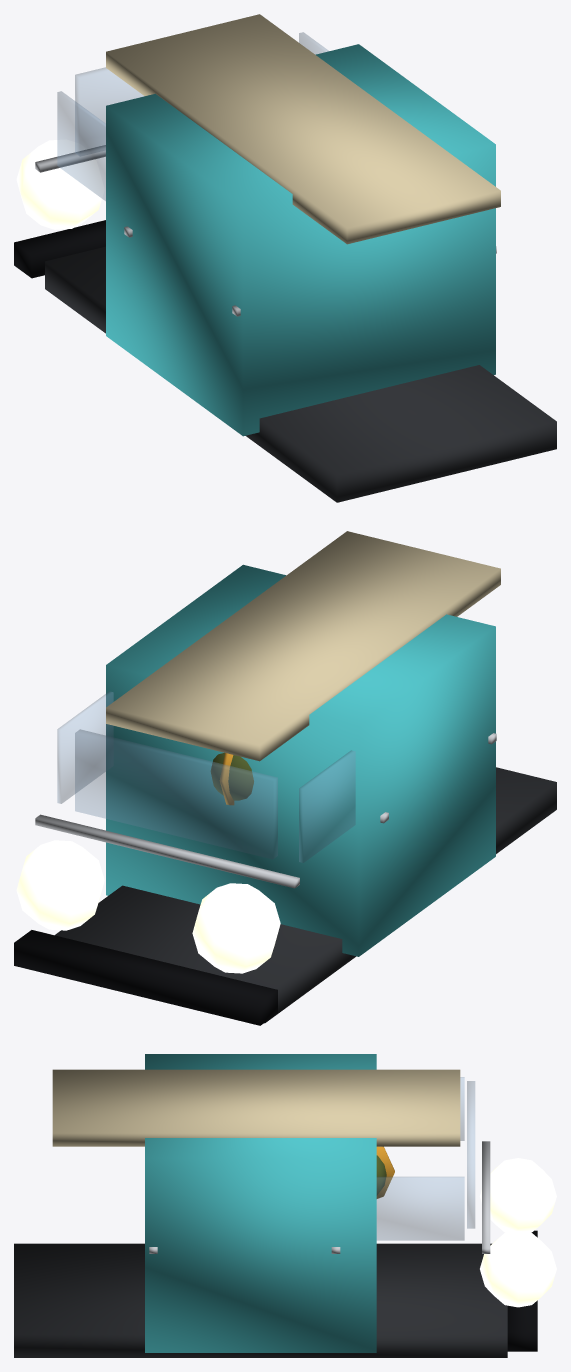
Rendered from combi_raw.glb.
3 renders of one model, top to bottom at view 1: azimuth 30°, elevation 25°; view 2: azimuth 150°, elevation 25°; view 3: azimuth 270°, elevation 25°, orthographic. The views are drawn at different scales.
Parts seen in each view (by area): view 1: Combi; view 2: Combi; view 3: Combi.
Boxes of the visible parts, box(x1,y1,x2,y2) form: Combi: box(14, 14, 556, 502); Combi: box(14, 531, 556, 1025); Combi: box(14, 1054, 556, 1357).
Bounding box in the file's own units: 1.18 × 1.08 × 2.53.
